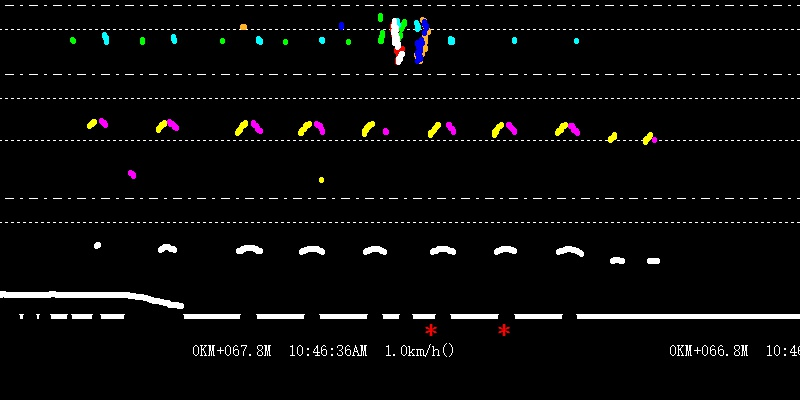J: (390, 6, 432, 66)
face_down: (99, 24, 112, 46), (379, 26, 387, 45)
first: (374, 2, 385, 20)
star: (498, 320, 514, 340), (420, 322, 441, 337)
y_p: (224, 108, 584, 272)
